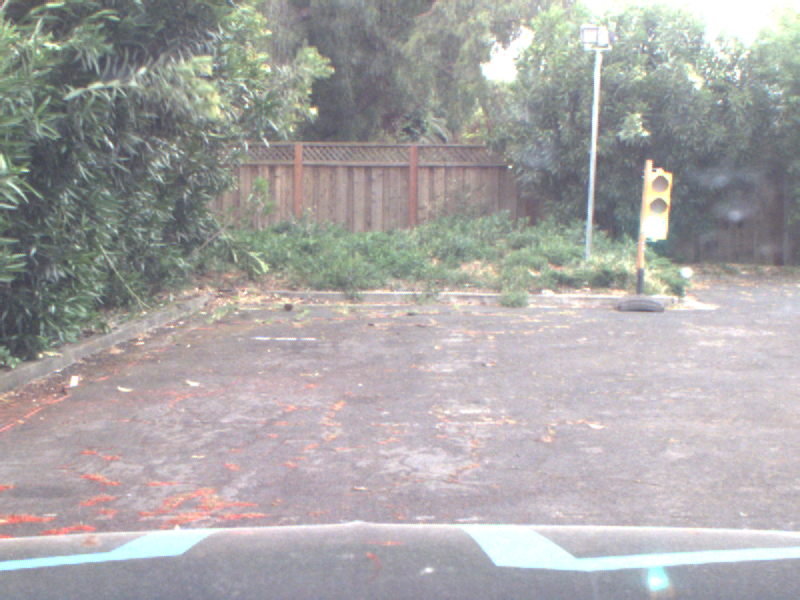Green: (642, 171, 668, 237)
